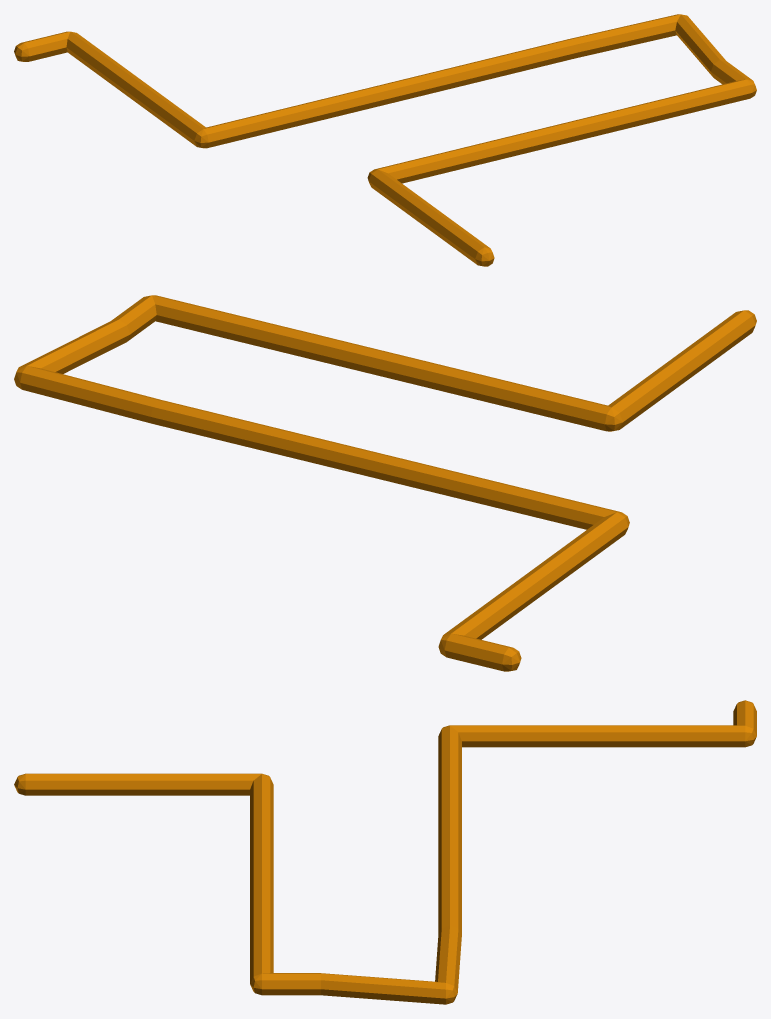
3 views of the same model, one above another, from view 1: azimuth 30°, elevation 25°; view 2: azimuth 150°, elevation 25°; view 3: azimuth 270°, elevation 25° (orthographic). The views are drawn at different scales.
Bounding box in the file's own units: 586 × 20 × 630.
